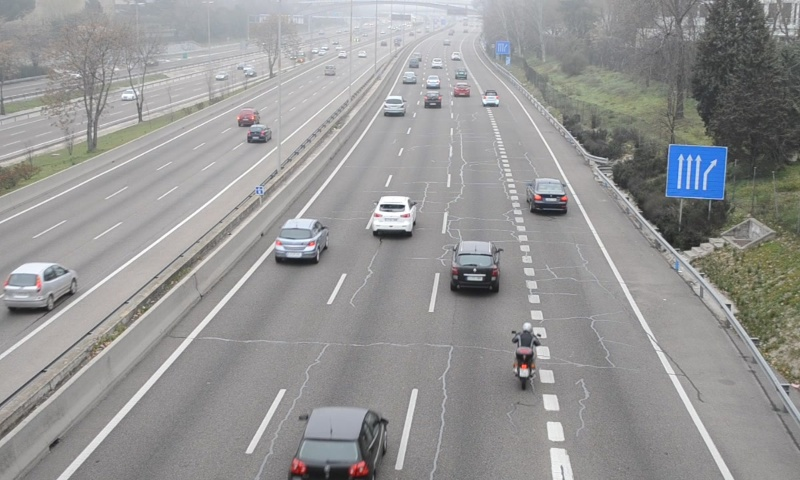car: (288, 408, 387, 480), (450, 240, 498, 291), (274, 218, 329, 262), (372, 196, 416, 234), (528, 177, 569, 211), (382, 94, 407, 116), (481, 88, 499, 106), (423, 90, 441, 108), (453, 80, 472, 97)
motorcycle: (510, 322, 542, 388)
